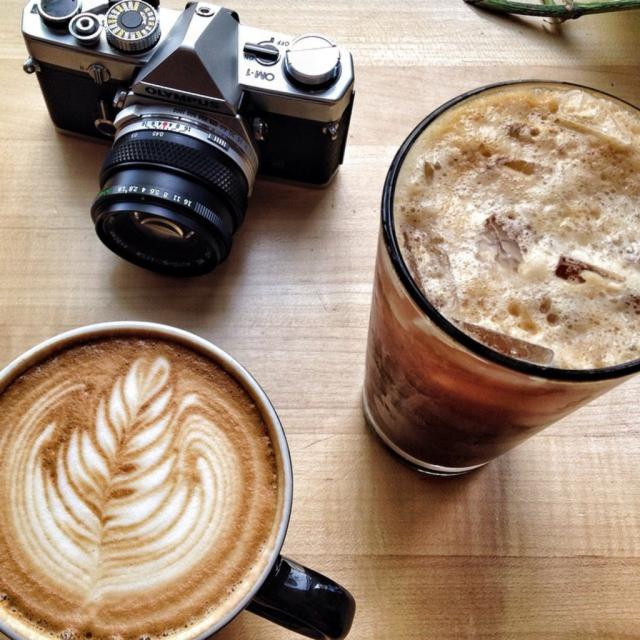latte: (2, 320, 293, 640)
